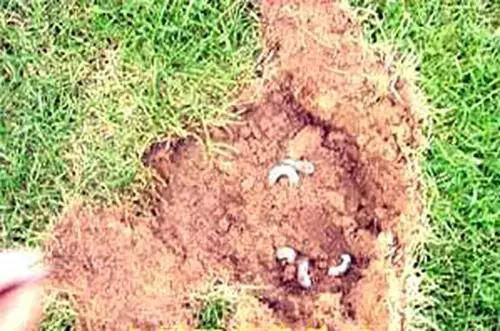grub: (266, 152, 321, 194)
